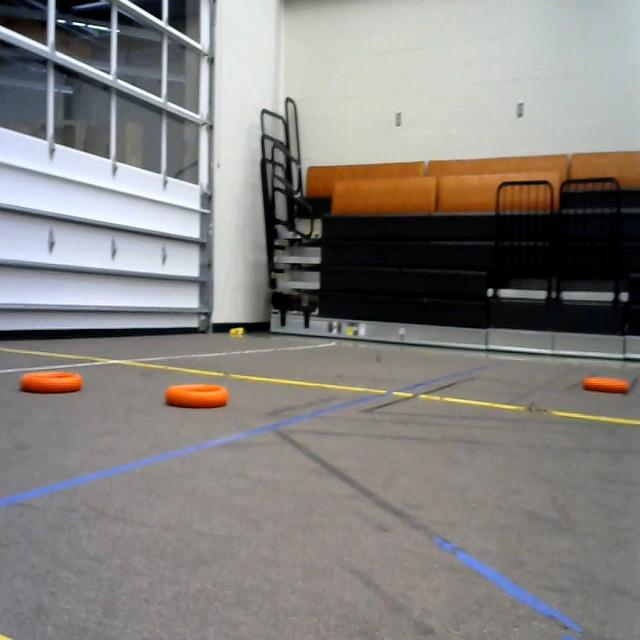note: (160, 372, 237, 416), (19, 367, 83, 400), (580, 368, 634, 400)
